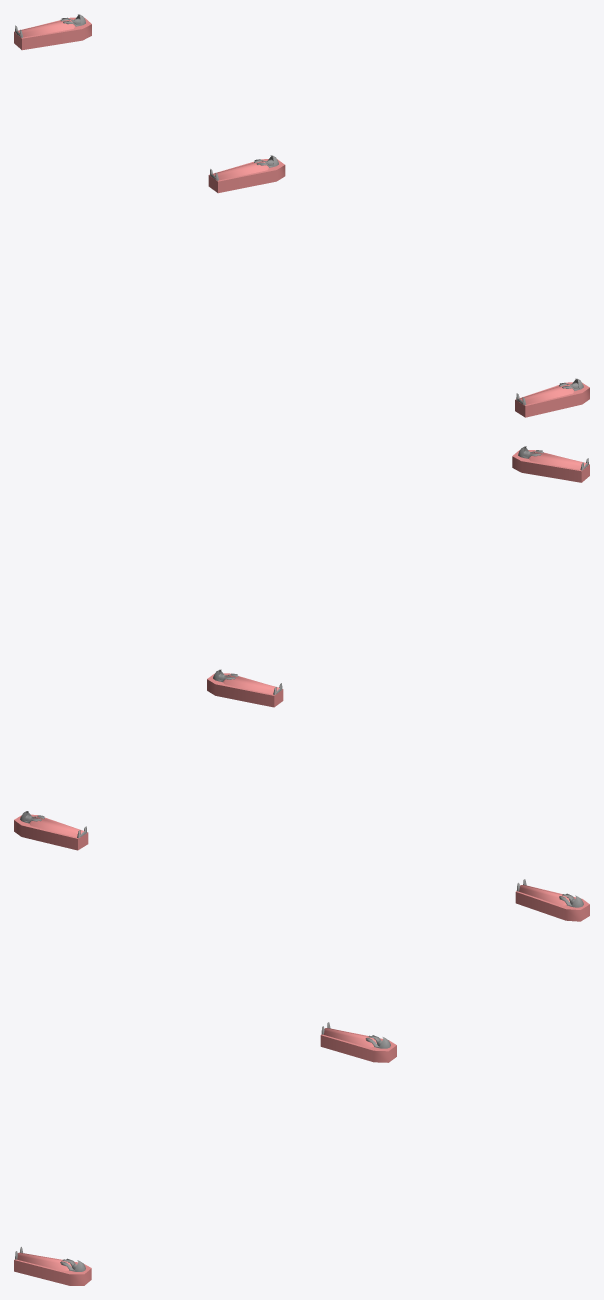
Rendered from SSQ_dungeon_S__SSQ_coffin_set01.gltf.
3 renders of one model, top to bottom at view 1: azimuth 30°, elevation 25°; view 2: azimuth 150°, elevation 25°; view 3: azimuth 330°, elevation 25°, orthographic.
Visible parts, largest first — view 1: SSQ_coffin_set01; view 2: SSQ_coffin_set01; view 3: SSQ_coffin_set01.
Part boxes in pixels (x1=…): SSQ_coffin_set01: x1=14, y1=14, x2=589, y2=417; SSQ_coffin_set01: x1=14, y1=446, x2=589, y2=850; SSQ_coffin_set01: x1=14, y1=879, x2=589, y2=1285.
Bounding box in the file's own units: 0.6622 × 0.1891 × 8.56.
